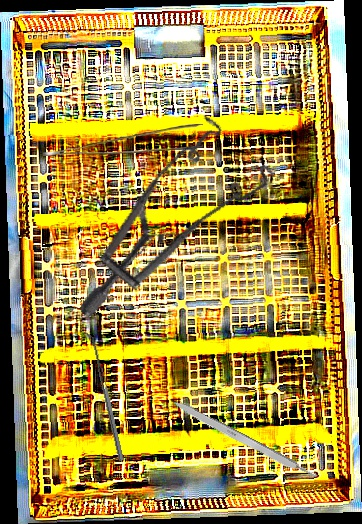Scalpel Handle: (167, 395, 318, 484)
Spatula Surgical: (84, 329, 124, 463)
Speculum: (78, 94, 286, 357)
Tissue Forceps: (43, 124, 203, 156)
